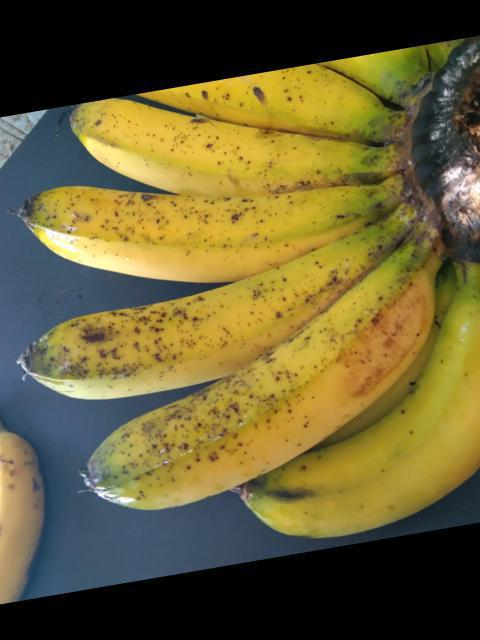ripe: (67, 259, 432, 538), (27, 227, 386, 400), (17, 162, 409, 275), (55, 98, 403, 182)
